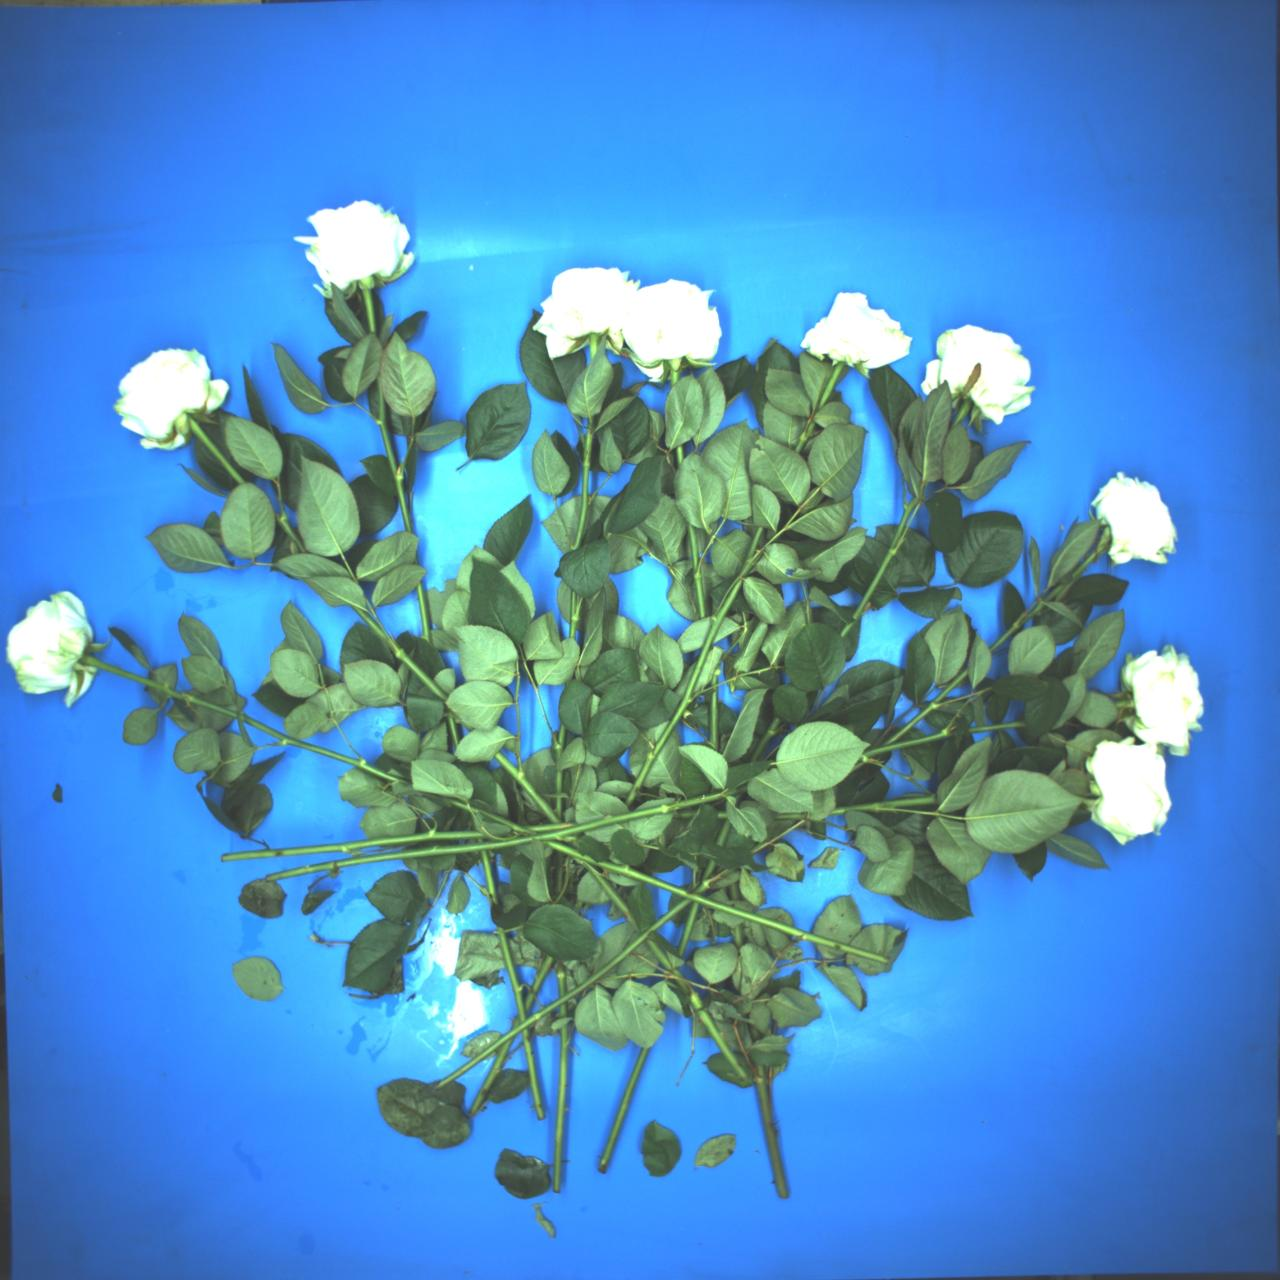Stem: (429, 896, 697, 1096), (543, 833, 890, 971), (263, 785, 751, 883), (83, 653, 414, 794), (624, 519, 765, 815), (645, 932, 750, 1085), (348, 600, 451, 704), (222, 826, 489, 863), (851, 492, 919, 625), (873, 669, 975, 751), (367, 374, 417, 536), (597, 1046, 651, 1175), (493, 747, 565, 832), (574, 852, 646, 932), (753, 1062, 789, 1200), (184, 417, 246, 488), (465, 1035, 517, 1116), (449, 796, 538, 840), (492, 925, 531, 1023), (857, 727, 955, 761), (552, 1003, 568, 1192), (987, 601, 1044, 652), (828, 794, 937, 819), (573, 422, 593, 550), (520, 1027, 546, 1121), (686, 522, 707, 619), (520, 955, 554, 1013), (272, 510, 309, 559), (747, 716, 783, 765), (812, 362, 844, 417), (1069, 538, 1110, 579), (693, 864, 736, 897), (674, 901, 700, 956), (413, 581, 434, 647), (707, 669, 721, 753), (789, 418, 821, 454), (479, 851, 499, 906), (360, 288, 376, 335), (948, 401, 972, 431), (968, 722, 1026, 734), (1042, 580, 1067, 604), (448, 712, 475, 733), (552, 721, 566, 761), (568, 591, 580, 638), (715, 818, 734, 847), (447, 716, 462, 750), (524, 823, 578, 832), (699, 858, 717, 884), (748, 836, 772, 855), (849, 755, 873, 772), (556, 853, 564, 899), (730, 925, 745, 949), (838, 618, 857, 638), (556, 961, 566, 996), (556, 770, 563, 817), (728, 881, 742, 901), (588, 338, 600, 361), (775, 813, 808, 821), (675, 809, 699, 818), (675, 445, 683, 467), (511, 1015, 520, 1032), (1116, 700, 1133, 708), (669, 370, 679, 386), (572, 900, 583, 913), (717, 810, 728, 818), (478, 838, 484, 843)
flower: (98, 326, 237, 465), (0, 585, 115, 721), (797, 281, 919, 402), (918, 316, 1046, 430), (291, 193, 417, 298), (612, 270, 729, 382), (1083, 461, 1185, 579), (1117, 640, 1213, 764), (530, 264, 644, 360), (1081, 733, 1176, 847)
